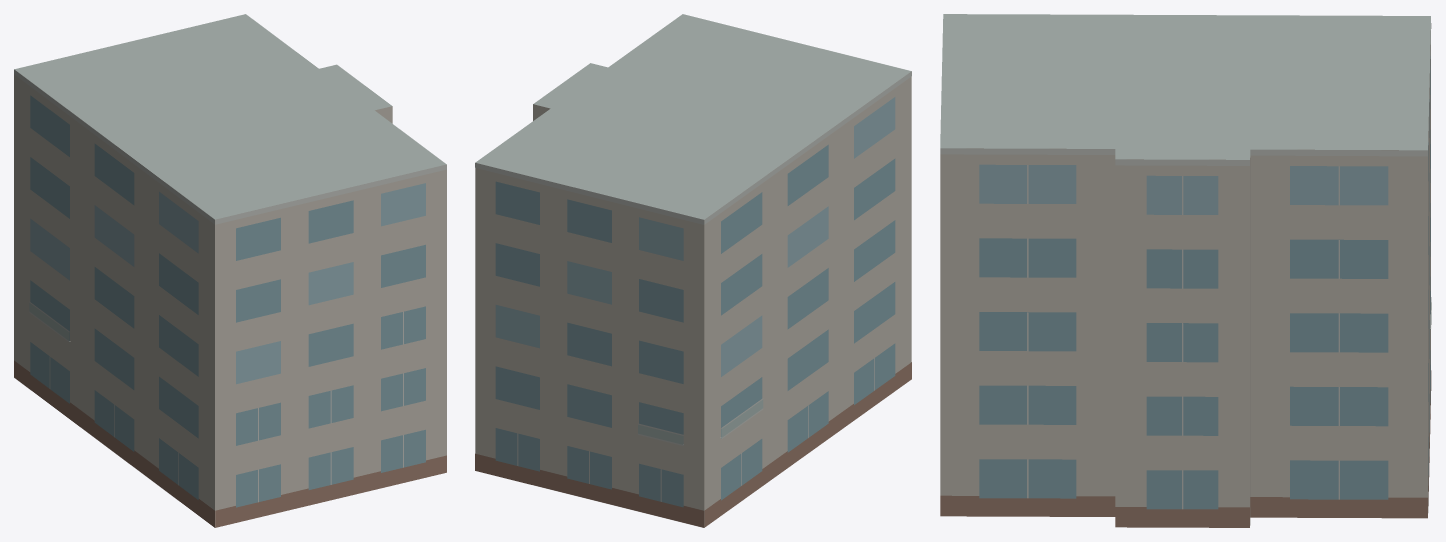
Rendered from survey-upis-32768051.glb.
3 views of the same model, side by side, from view 1: azimuth 30°, elevation 25°; view 2: azimuth 150°, elevation 25°; view 3: azimuth 270°, elevation 25° (orthographic). The views are drawn at different scales.
Parts seen in each view (by area): view 1: survey-upis-32768051.tmp; view 2: survey-upis-32768051.tmp; view 3: survey-upis-32768051.tmp.
Boxes of the visible parts, x1=… form: survey-upis-32768051.tmp: x1=14, y1=14, x2=446, y2=527; survey-upis-32768051.tmp: x1=475, y1=14, x2=911, y2=527; survey-upis-32768051.tmp: x1=940, y1=14, x2=1431, y2=527.
Size of the model in its own units: 12.51 by 14.7 by 17.81.
